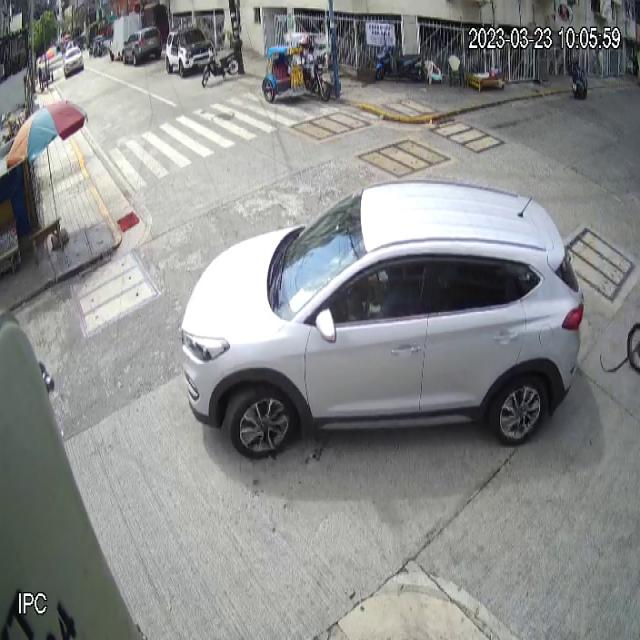Car: (180, 178, 584, 460)
Tricycle: (262, 32, 332, 105)
